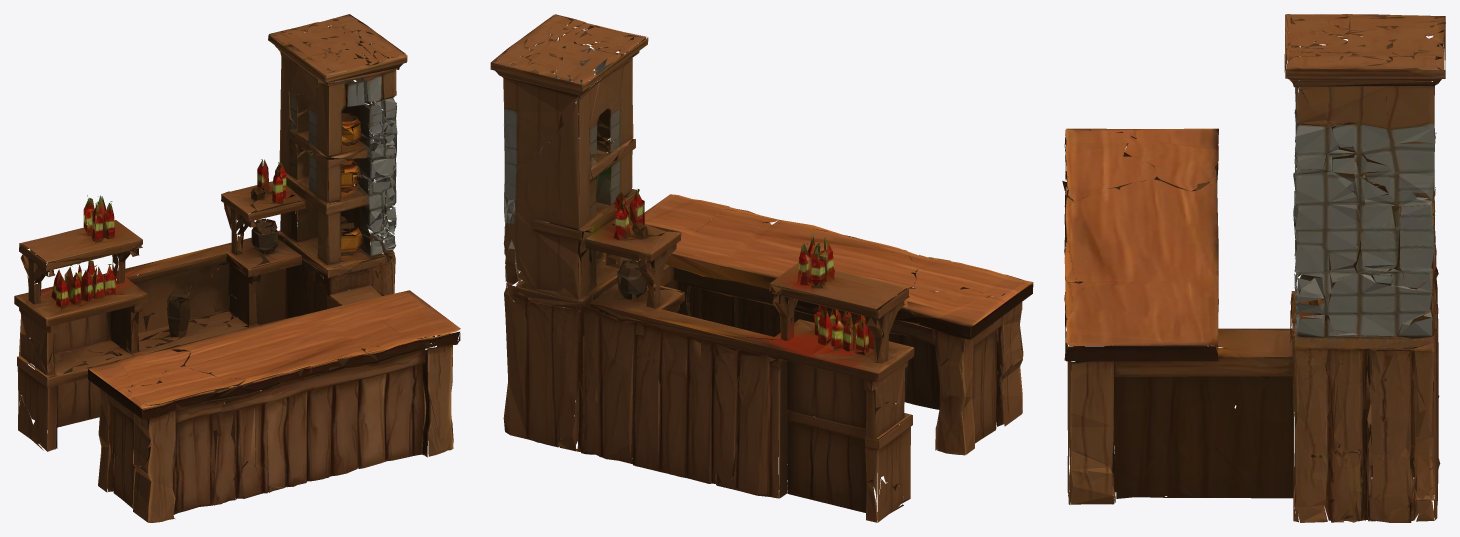
Rendered from bar-counter.glb.
3 views of the same model, side by side, from view 1: azimuth 30°, elevation 25°; view 2: azimuth 150°, elevation 25°; view 3: azimuth 270°, elevation 25° (orthographic). The views are drawn at different scales.
Parts seen in each view (by area): view 1: material; view 2: material; view 3: material.
Part boxes in pixels (box(x1,y1,x2,y2)): material: box(14, 14, 460, 522); material: box(490, 14, 1033, 522); material: box(1062, 14, 1445, 522).
Bounding box in the file's own units: 0.9942 × 0.92 × 0.6882.
Materials: 1 (1 with a texture image).
